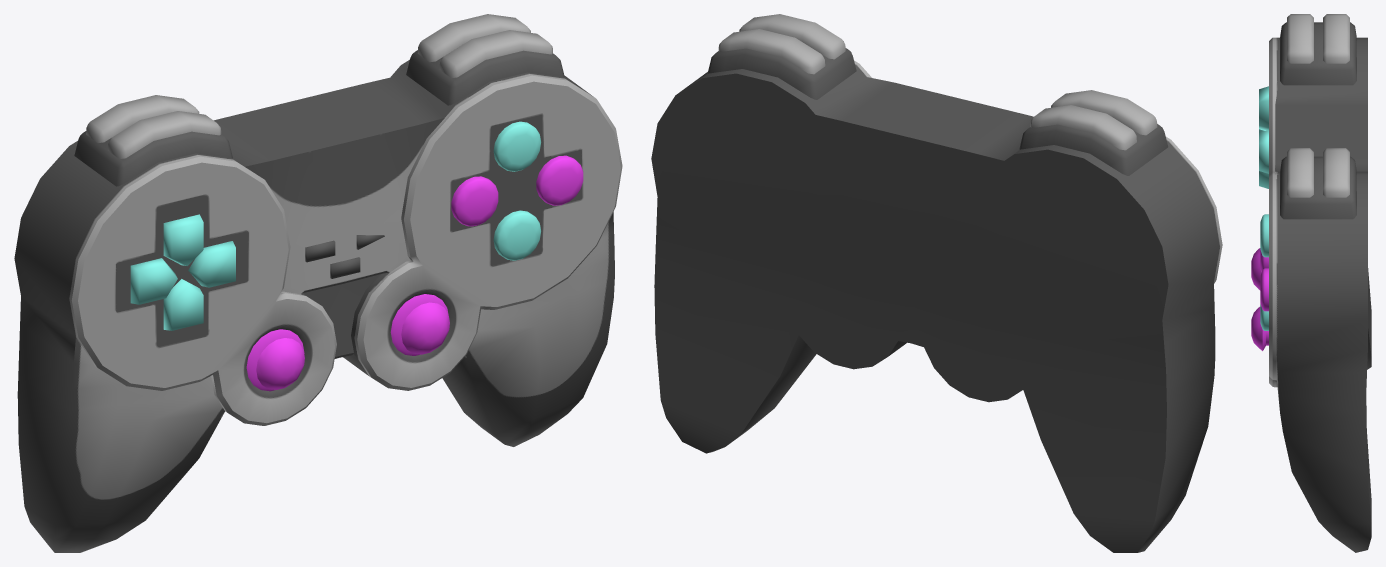
File: GameController.fbx
3 renders of one model, left to right at view 1: azimuth 30°, elevation 25°; view 2: azimuth 150°, elevation 25°; view 3: azimuth 270°, elevation 25°, orthographic. The views are drawn at different scales.
Visible parts, largest first — view 1: GameController; view 2: GameController; view 3: GameController.
Boxes of the visible parts, x1,y1,x2,y2 form: GameController: [14, 14, 622, 552]; GameController: [651, 14, 1222, 552]; GameController: [1251, 14, 1371, 552].
Size of the model in its own units: 3.14 by 2.42 by 0.7178.
Materials: 1 (1 with a texture image).
